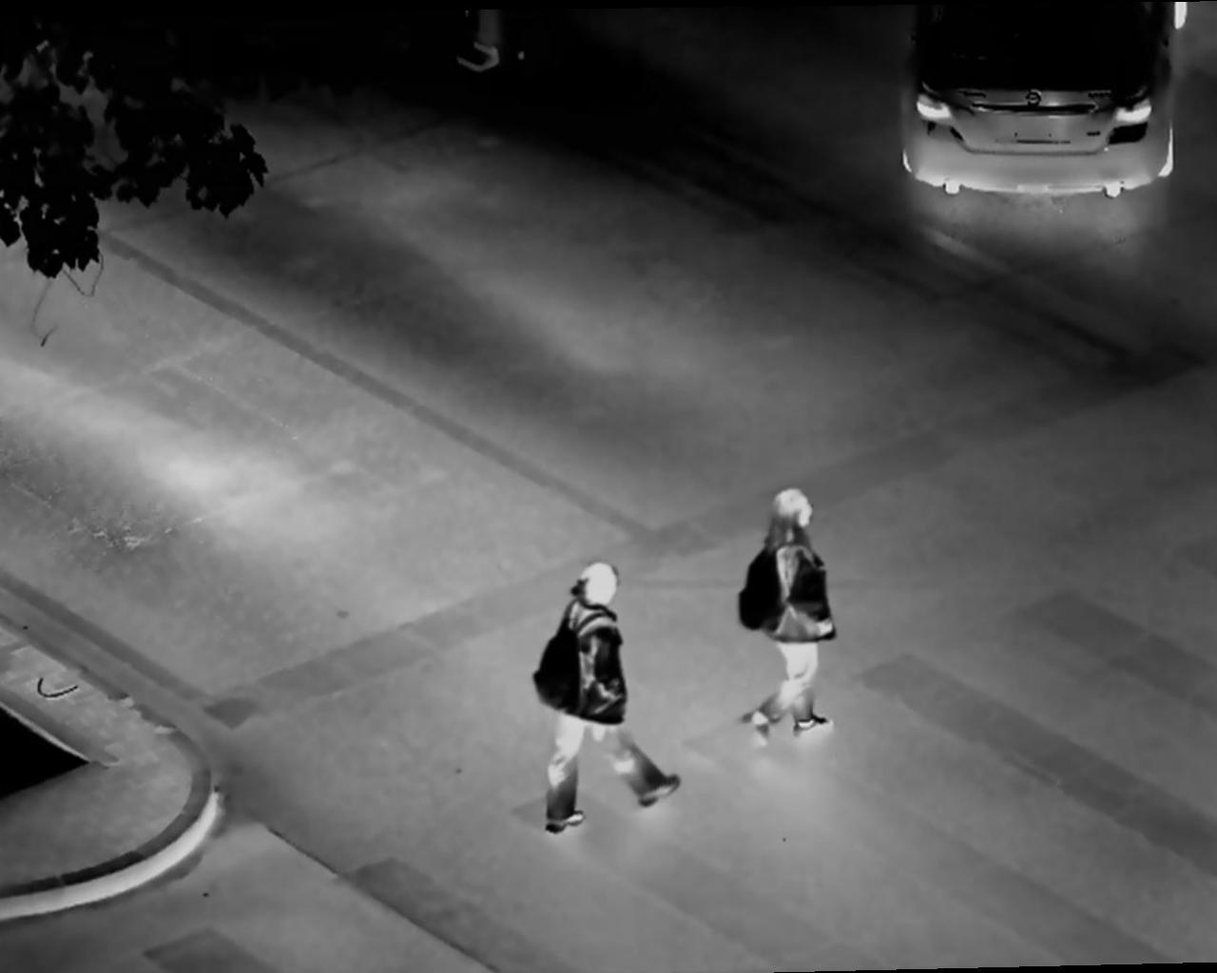person: (524, 559, 688, 828), (740, 481, 834, 743)
